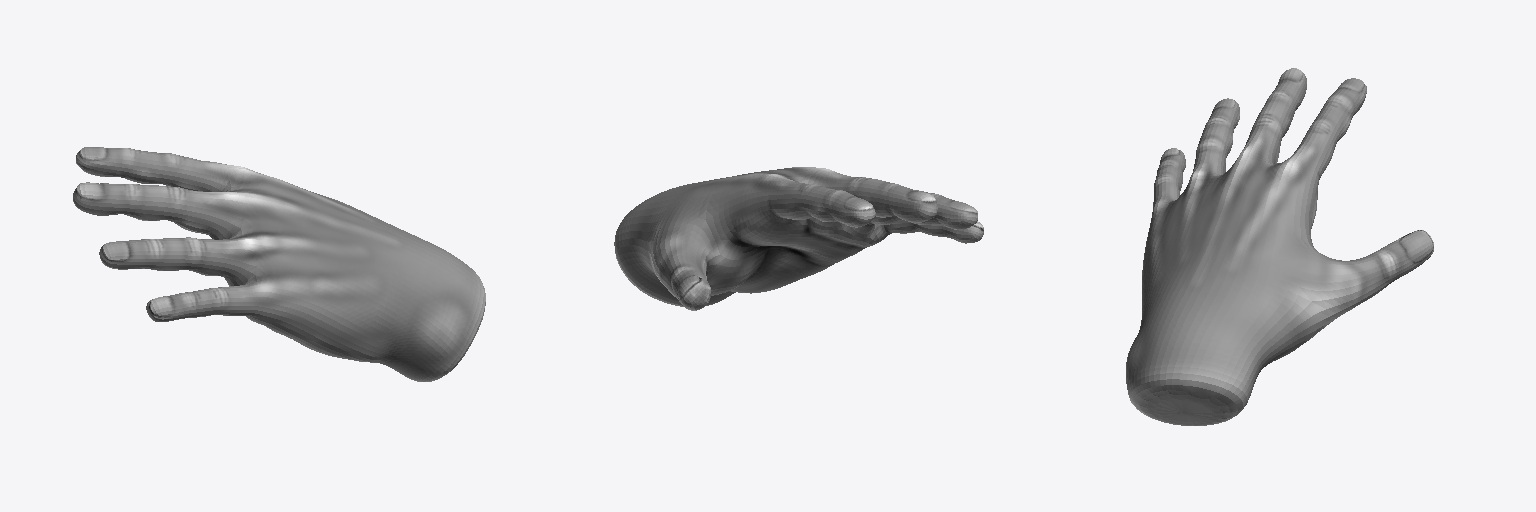
3 views of the same model, side by side, from view 1: azimuth 30°, elevation 25°; view 2: azimuth 150°, elevation 25°; view 3: azimuth 270°, elevation 25° (orthographic).
Parts seen in each view (by area): view 1: Group16023.001; view 2: Group16023.001; view 3: Group16023.001.
Part boxes in pixels (bbox=[...]): Group16023.001: bbox=[73, 147, 485, 381]; Group16023.001: bbox=[614, 167, 983, 310]; Group16023.001: bbox=[1126, 68, 1433, 425].
Bounding box in the file's own units: 0.7998 × 0.4741 × 0.5899.
1 materials, 1 textured.